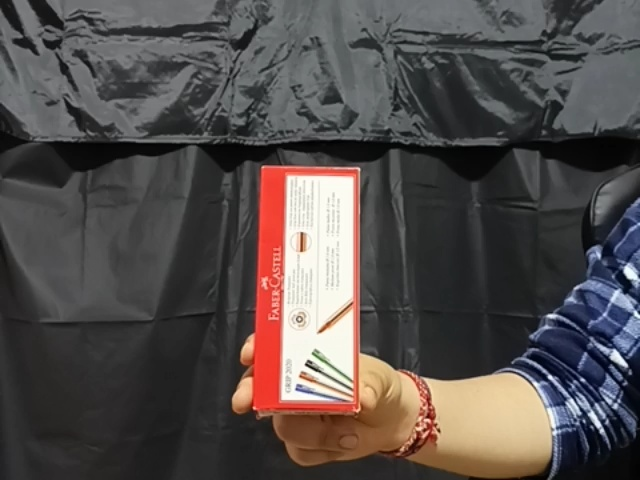xd: (256, 161, 363, 414)
